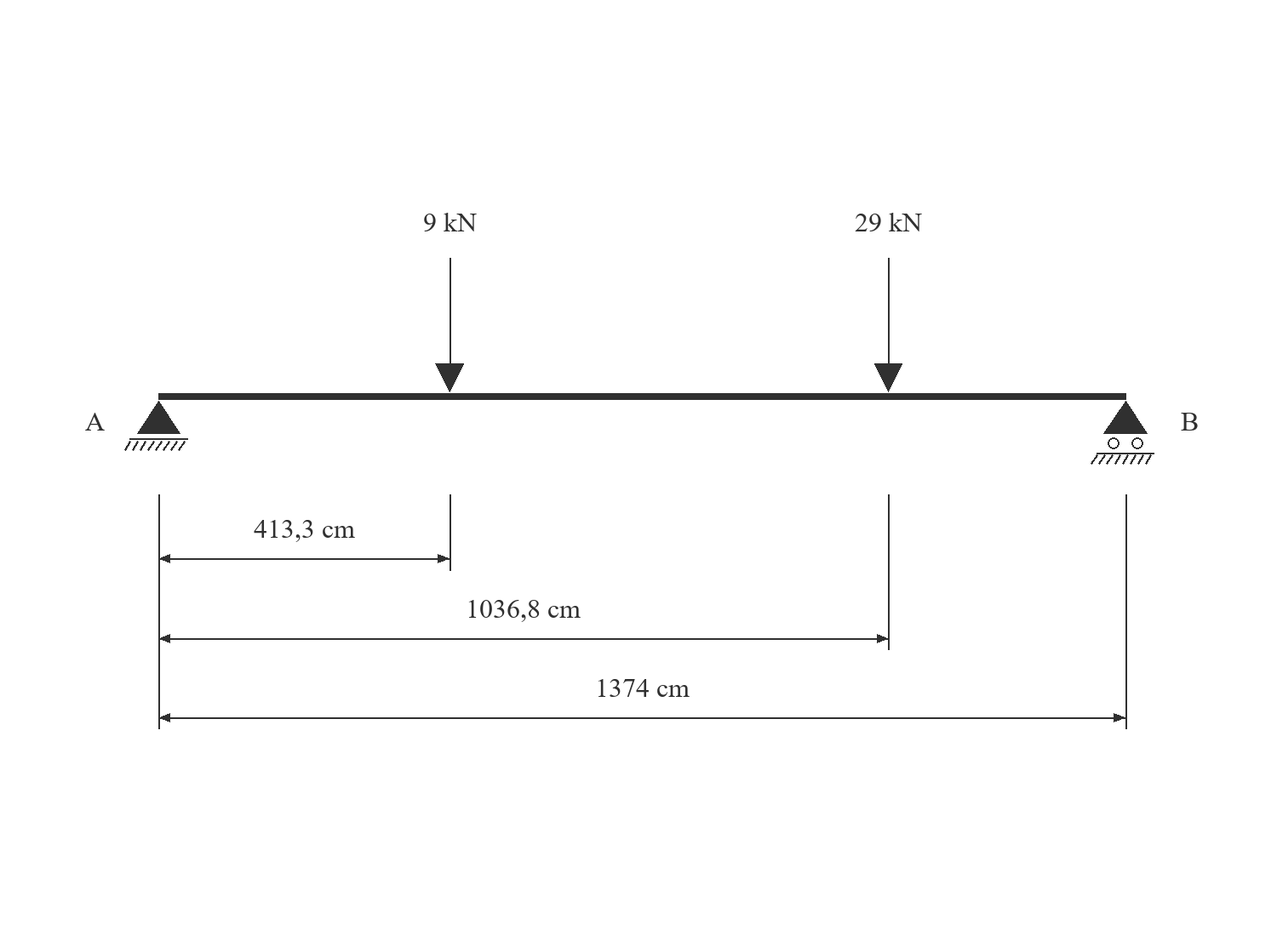pin_support: (124, 401, 188, 451)
point_load: (435, 258, 464, 392), (874, 258, 902, 392)
roller_support: (1091, 401, 1154, 465)
